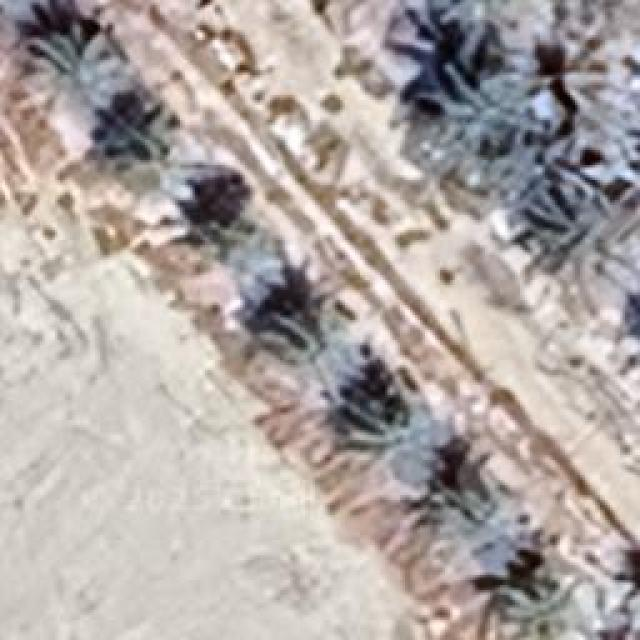PalmTree: (527, 178, 640, 313), (145, 218, 285, 310), (12, 28, 128, 122), (342, 398, 448, 488), (428, 98, 532, 178), (115, 120, 203, 208), (441, 492, 524, 582), (438, 0, 538, 60), (255, 310, 343, 375), (500, 578, 578, 638)
